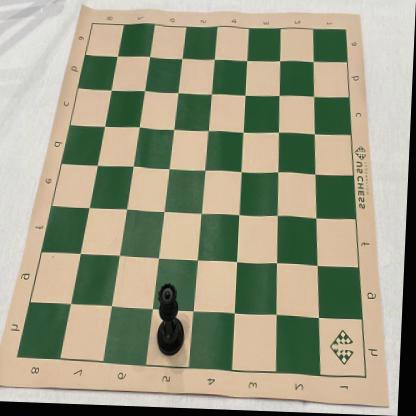black-queen: (158, 284, 190, 359)
